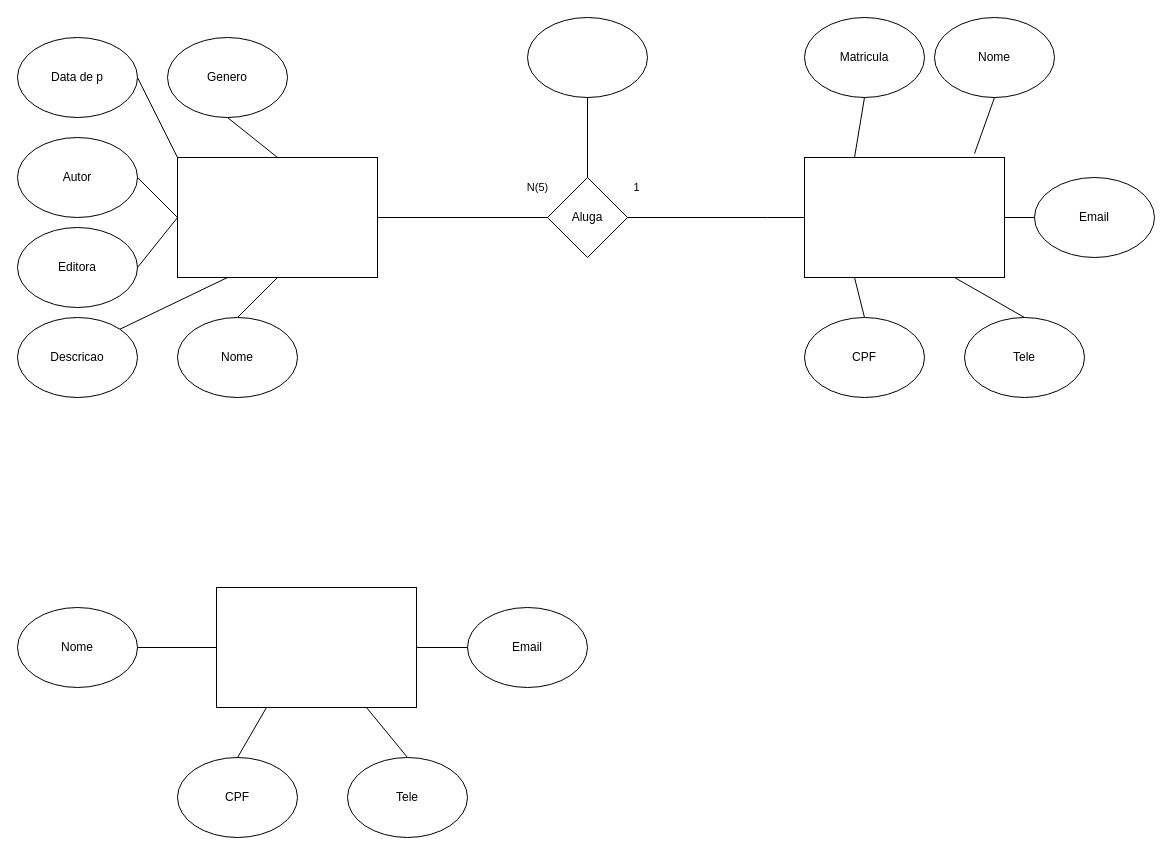
Image size: 1172x855. Some labels were removed from this diagram. The centre of each missing label's shape, as x and y in pixels:
"Bibliotecario" goes at pixel 316 647.
"Livro" goes at pixel 277 217.
"PRAZO" goes at pixel 587 57.
"User" goes at pixel 904 217.
